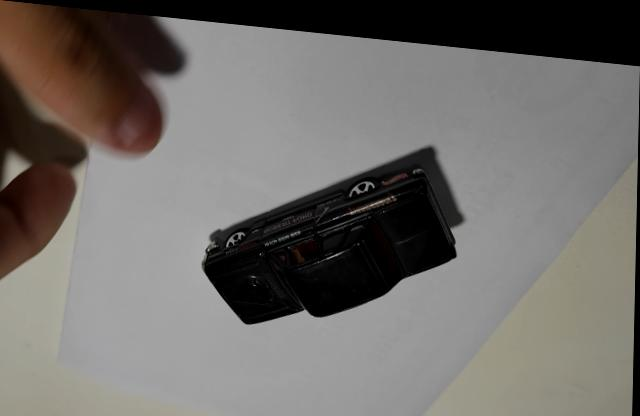01_FORD: (202, 135, 465, 318)
